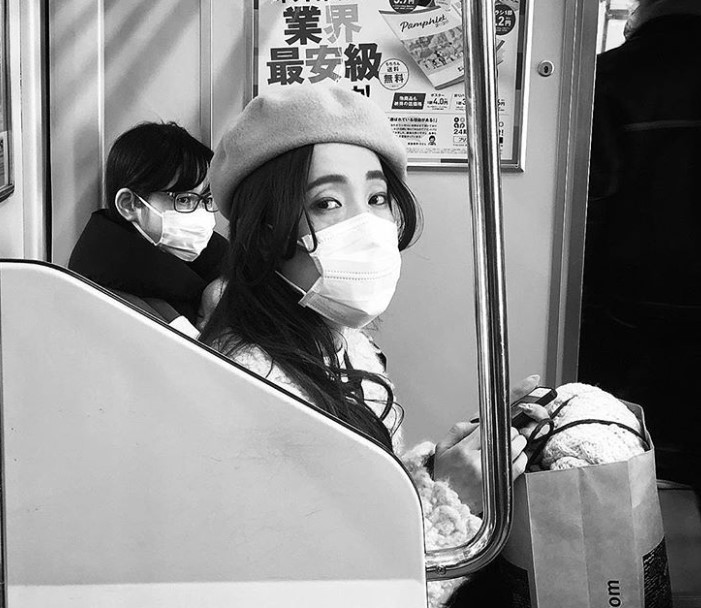face_with_mask: (209, 81, 415, 332), (103, 122, 213, 263)
